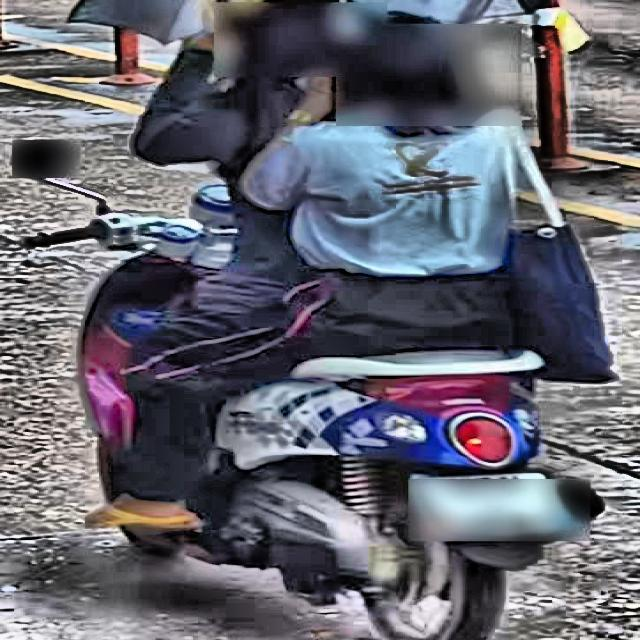motorcycle: (11, 139, 608, 639)
